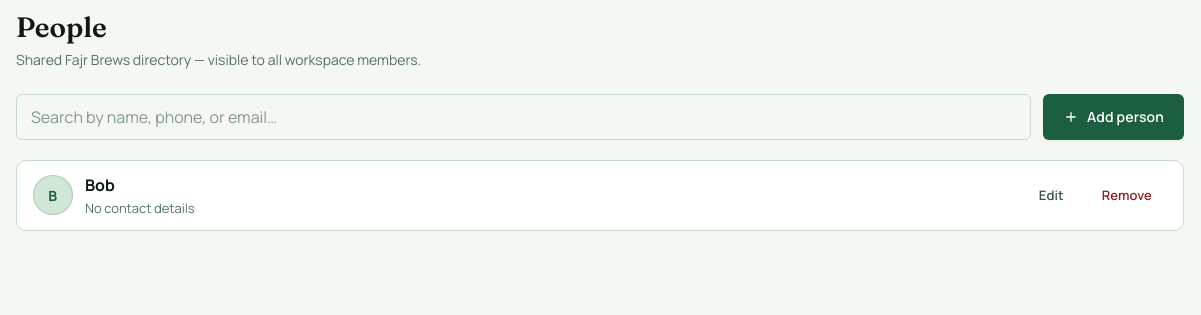
Scenario: PeoplePage deletion guards (BUG-ORD-09 / BUG-EDGE-05) › attempting to delete a person who holds shares in an active order shows the error banner and blocks deletion
Click the button "Remove": (1127, 195) [1087, 177, 1167, 213]
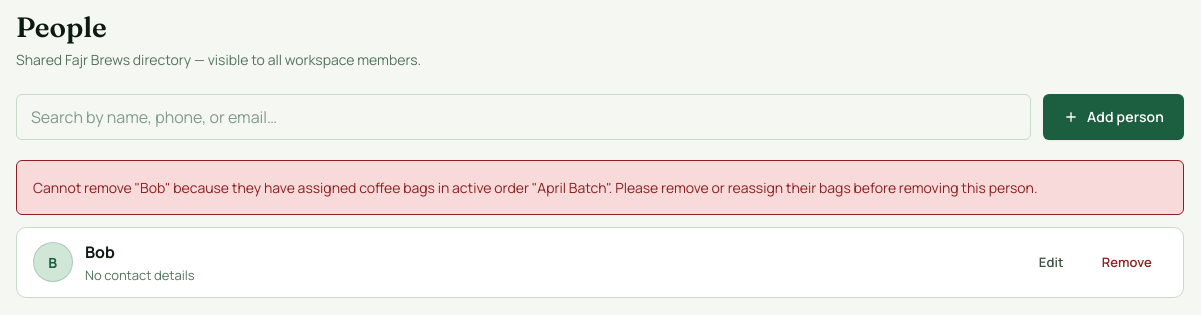
expect the text with class "alert-error" is shown: met, box [16, 160, 1184, 215]
expect the text with class "alert-error" shows "Cannot remove \"Bob\" because they have assigned coffee bags in active order \"April Batch\"": met, box [33, 178, 1037, 197]
